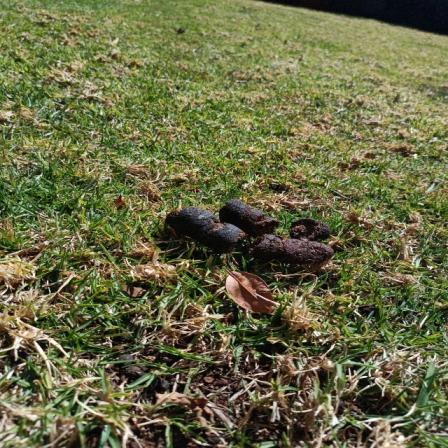dog-poop: (164, 181, 340, 274)
